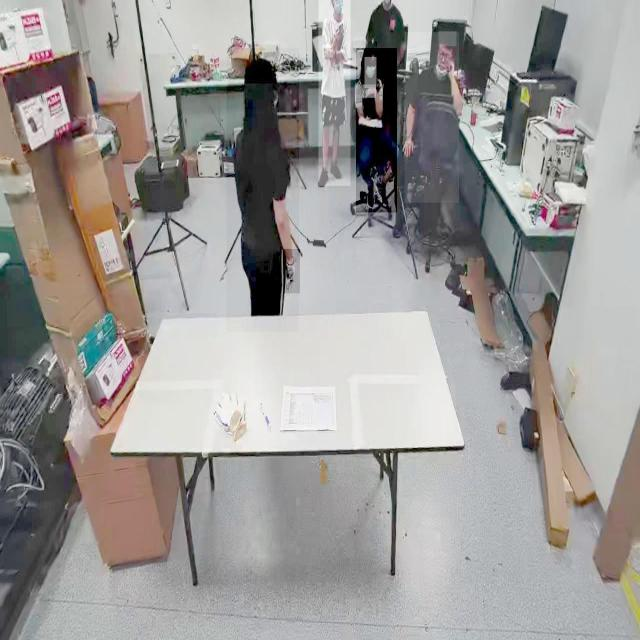face_mask: (365, 57, 377, 88)
hand_glove: (283, 249, 301, 294)
hand_noglove: (402, 136, 414, 156), (362, 85, 377, 98), (322, 44, 333, 59), (447, 58, 454, 76)
head_nohelmet: (244, 55, 278, 85), (439, 31, 457, 47), (362, 42, 378, 57)
person: (227, 48, 300, 332), (404, 32, 460, 204), (356, 48, 398, 213), (319, 0, 351, 187)
shoes: (361, 174, 375, 208), (377, 176, 388, 208), (329, 160, 343, 181), (317, 168, 328, 188)
